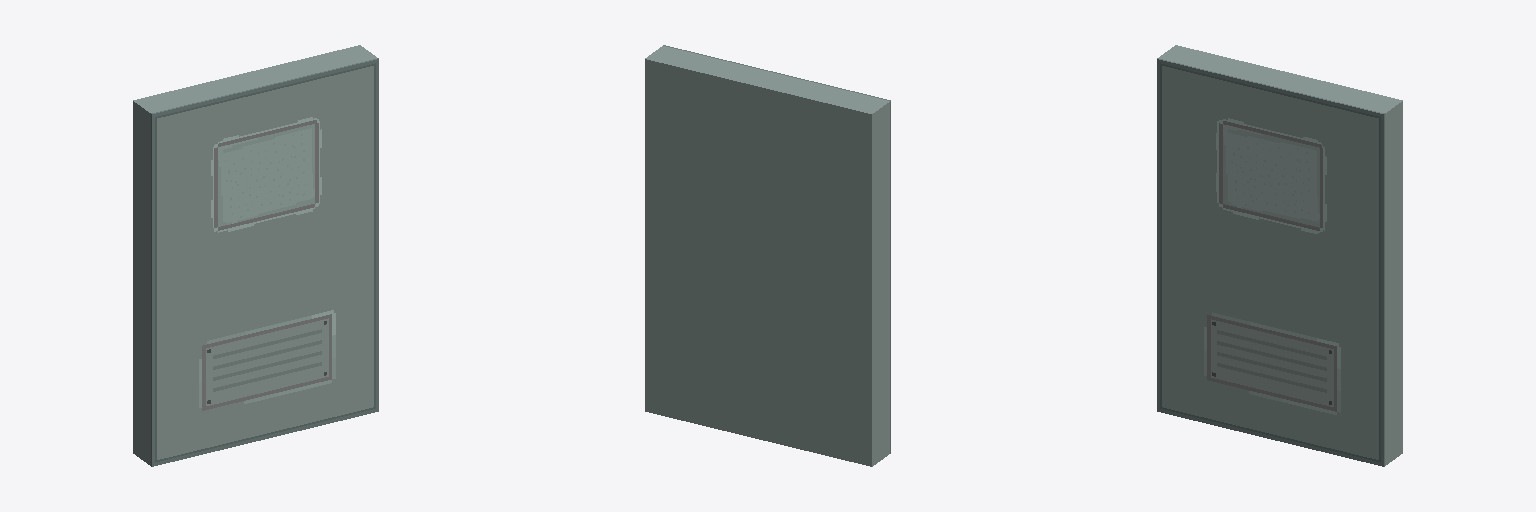
3 renders of one model, left to right at view 1: azimuth 30°, elevation 25°; view 2: azimuth 150°, elevation 25°; view 3: azimuth 330°, elevation 25°, orthographic.
Parts seen in each view (by area): view 1: object 1; view 2: object 1; view 3: object 1.
Part boxes in pixels (x1,y1,x2,y2): object 1: (133,45,378,466); object 1: (645,45,890,466); object 1: (1157,45,1402,466).
Bounding box in the file's own units: 13.1 × 19.4 × 1.9.
1 materials, 1 textured.